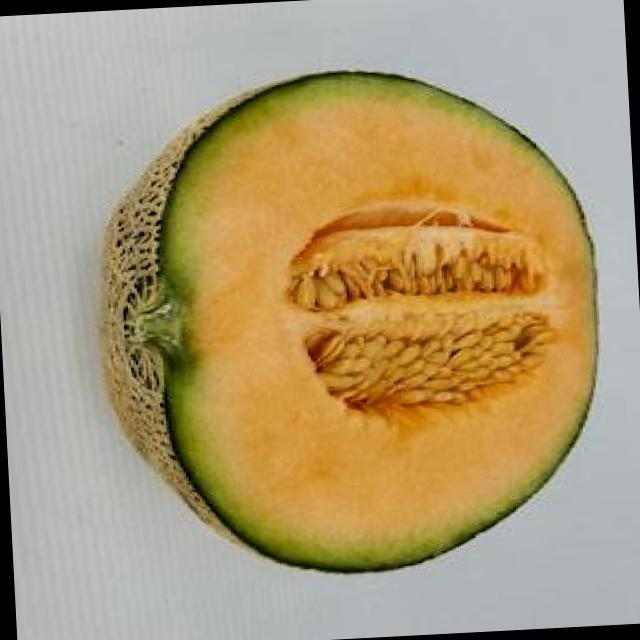cantaloupe: (83, 59, 609, 588)
